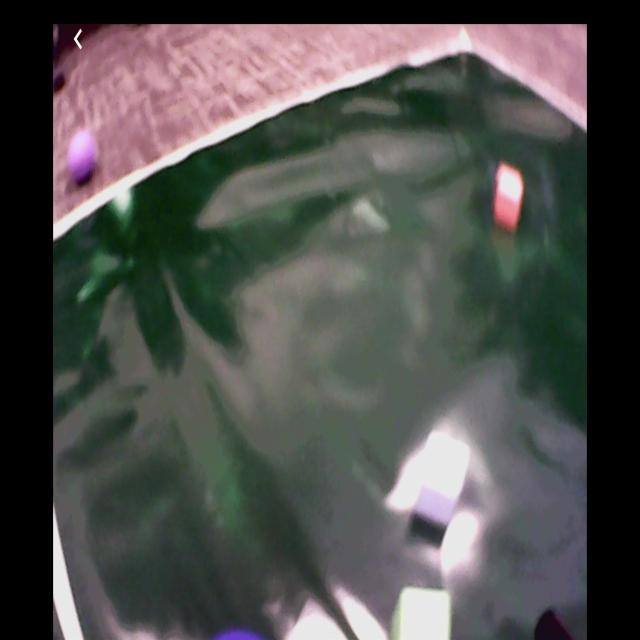ball: (69, 129, 98, 181), (213, 622, 272, 640)
